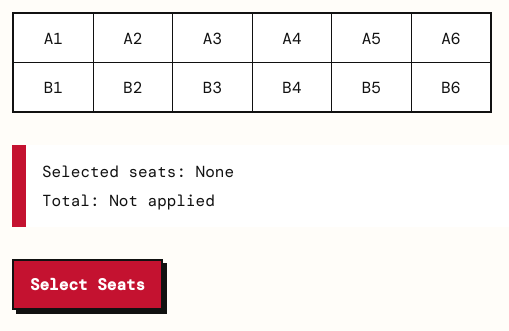
it: catalogue selection › keeps the grid inert until Select Seats applies the fixed bundle
Click the button named "Seat A1" at (53, 38), box [14,14,92,62]
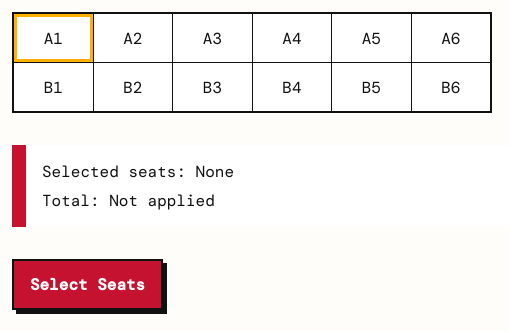
Check: the text "Selected seats: None" is shown, box [42,161,234,182]
Check: the text "Total: Not applied" is shown, box [42,190,215,211]
Click the button "Select Seats" at (88, 285), box [12,259,163,310]
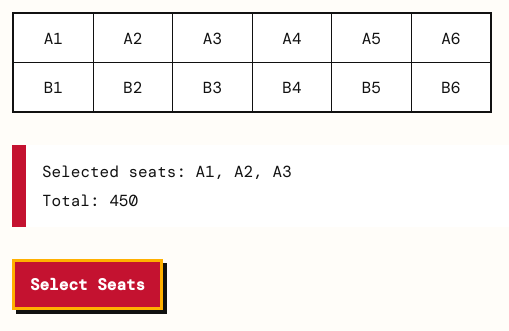
Check: the text "Selected seats: A1, A2, A3" is shown, box [42,161,292,182]
Check: the text "Total: 450" is shown, box [42,190,138,211]
